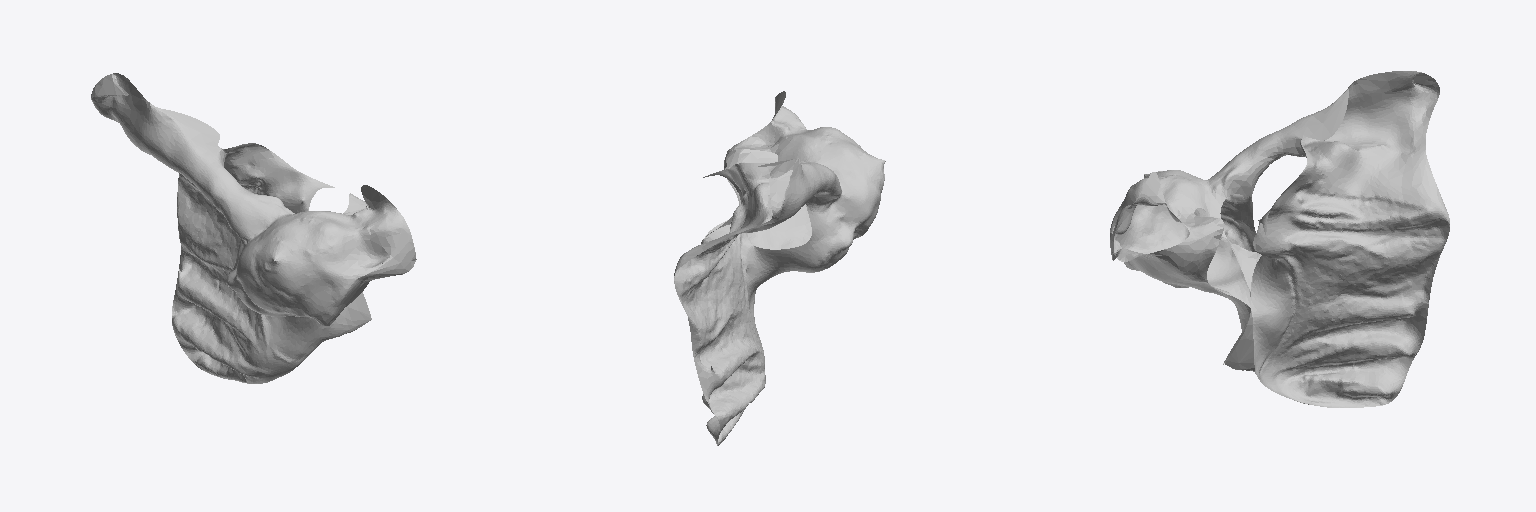
The picture shows the model from 3 angles: view 1: azimuth 30°, elevation 25°; view 2: azimuth 150°, elevation 25°; view 3: azimuth 270°, elevation 25°; orthographic projection.
Visible parts, largest first — view 1: Texture_0; view 2: Texture_0; view 3: Texture_0.
Boxes of the visible parts, box(x1,y1,x2,y2) form: Texture_0: box(91, 73, 416, 383); Texture_0: box(674, 91, 885, 445); Texture_0: box(1110, 71, 1449, 407).
Size of the model in its own units: 24.29 by 39.82 by 40.63.